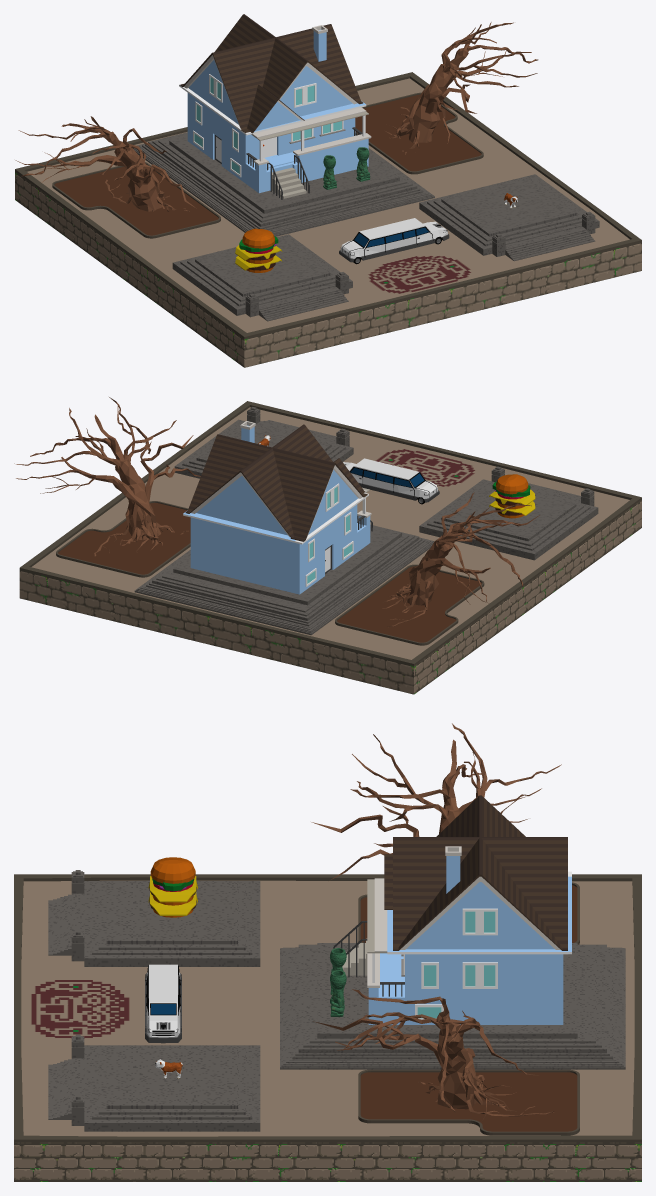
The picture shows the model from 3 angles, top to bottom: view 1: azimuth 30°, elevation 25°; view 2: azimuth 150°, elevation 25°; view 3: azimuth 270°, elevation 25°; orthographic projection. The views are drawn at different scales.
Visible parts, largest first — view 1: Cube.011, Cube.1594, VEHICLES_LIMOUSINE, OBJRANDOM_HAMBURGER; view 2: Cube.011, Cube.1594, VEHICLES_LIMOUSINE, OBJRANDOM_HAMBURGER; view 3: Cube.011, Cube.1594, VEHICLES_LIMOUSINE, OBJRANDOM_HAMBURGER.
Boxes of the visible parts, left/top/right/bottom form: Cube.011: left=15, top=22, right=641, bottom=367; Cube.1594: left=179, top=14, right=371, bottom=199; VEHICLES_LIMOUSINE: left=339, top=218, right=449, bottom=264; OBJRANDOM_HAMBURGER: left=235, top=228, right=282, bottom=272; Cube.011: left=14, top=397, right=641, bottom=694; Cube.1594: left=183, top=421, right=372, bottom=594; VEHICLES_LIMOUSINE: left=343, top=458, right=439, bottom=504; OBJRANDOM_HAMBURGER: left=489, top=474, right=535, bottom=518; Cube.011: left=14, top=723, right=641, bottom=1181; Cube.1594: left=333, top=795, right=571, bottom=1024; VEHICLES_LIMOUSINE: left=145, top=964, right=181, bottom=1043; OBJRANDOM_HAMBURGER: left=148, top=857, right=197, bottom=917.
Bounding box in the file's own units: 5099 × 1812 × 4000.
Materials: 41 (5 with a texture image).
